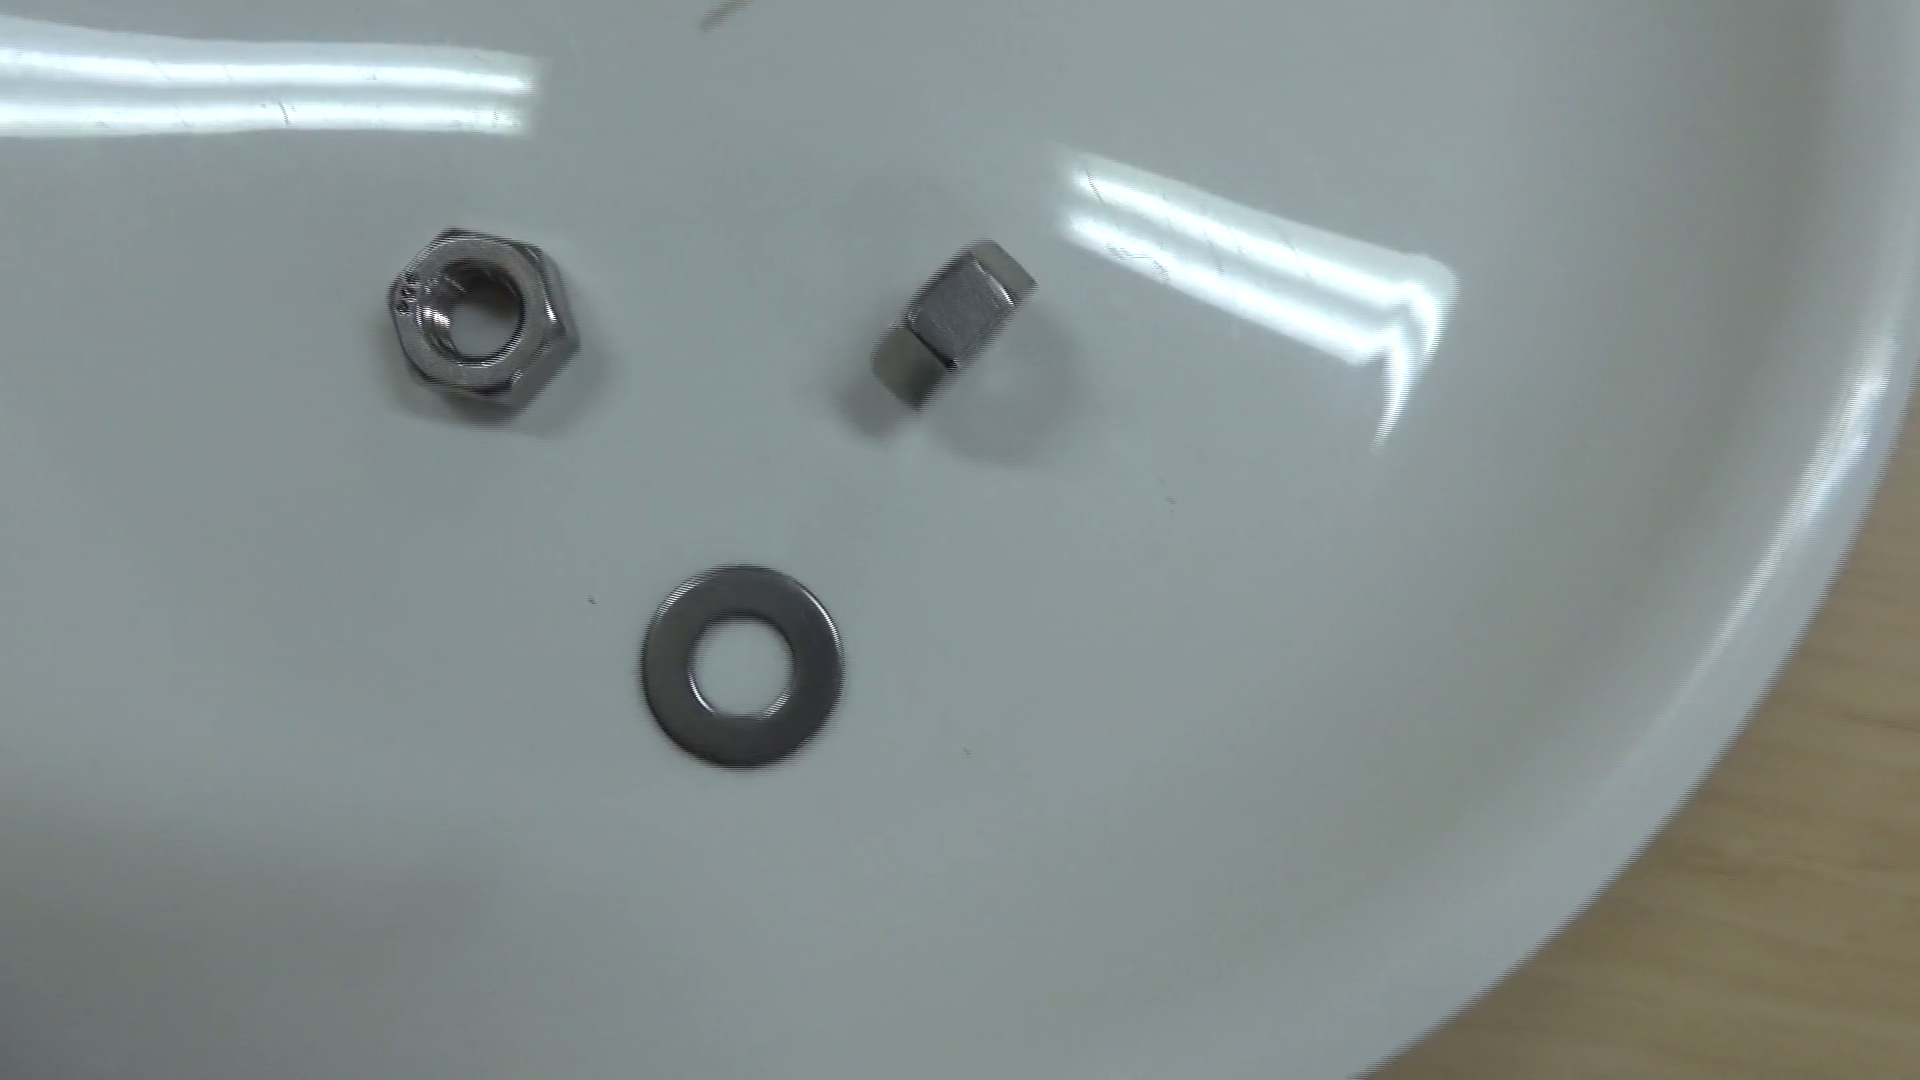nut: (382, 218, 584, 419), (865, 233, 1039, 417)
washer: (633, 559, 847, 774)
